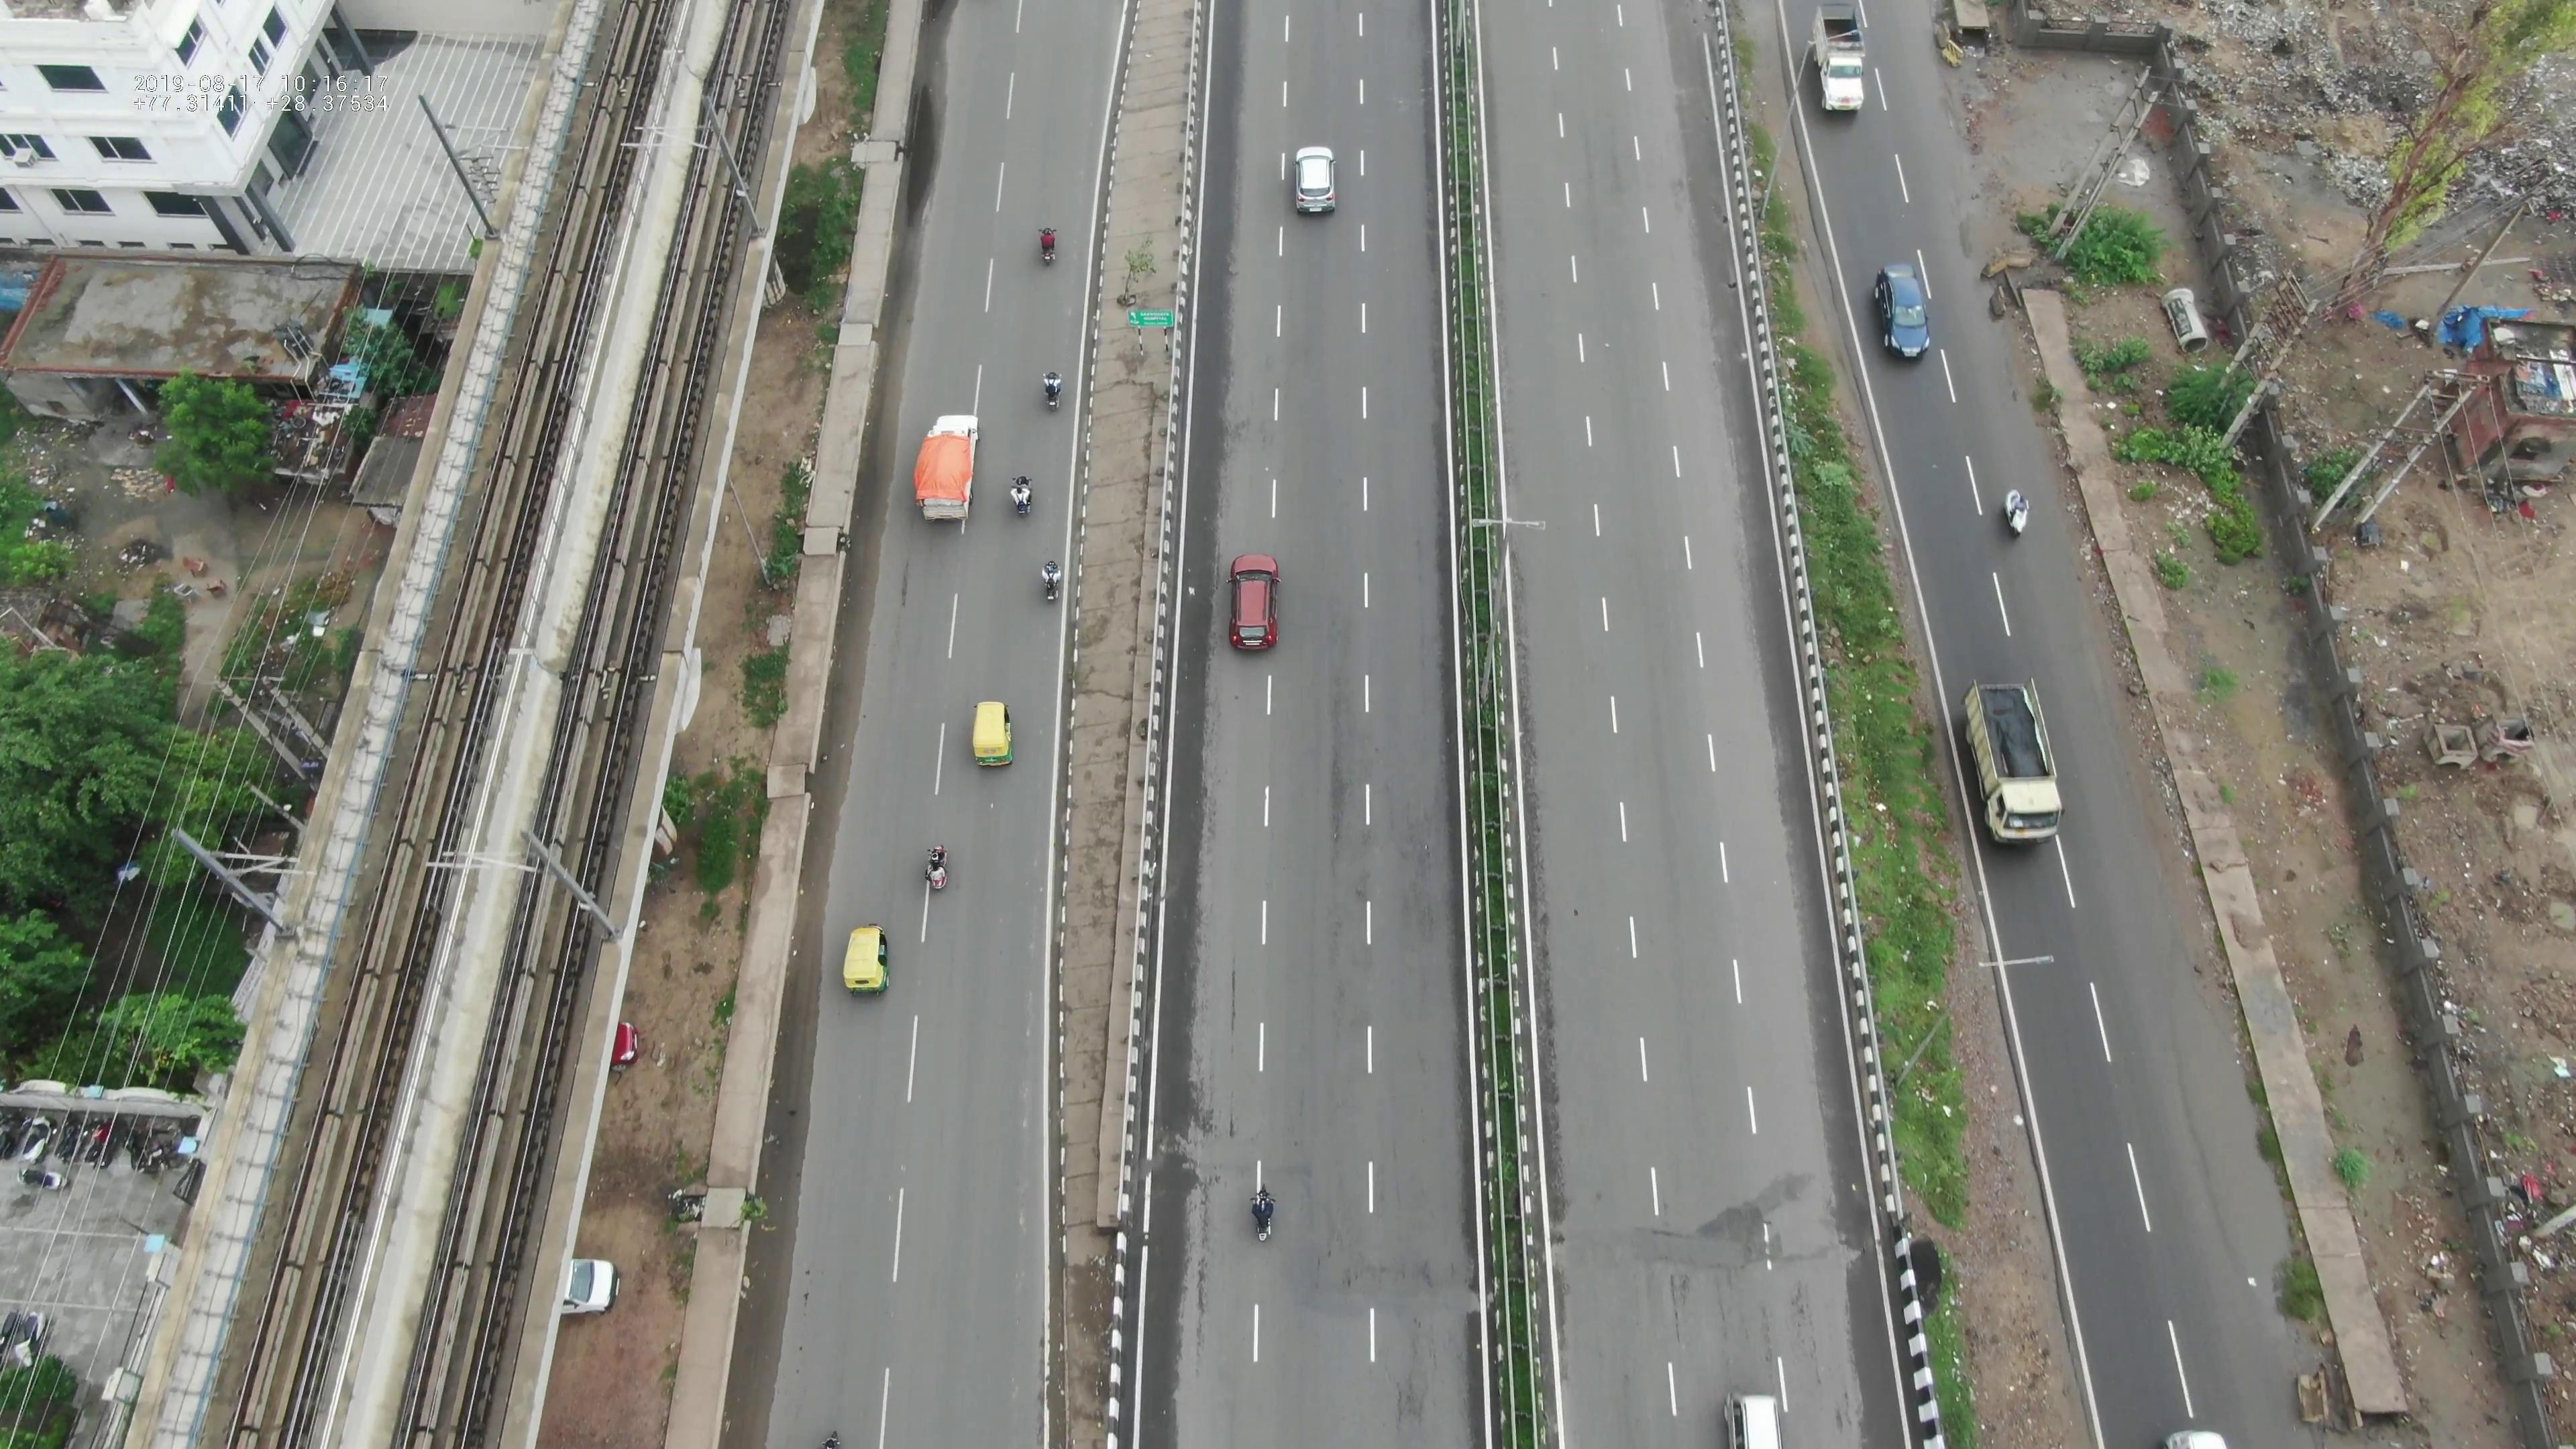Potholes: (1274, 1235, 1458, 1330), (1598, 1201, 1782, 1292)
